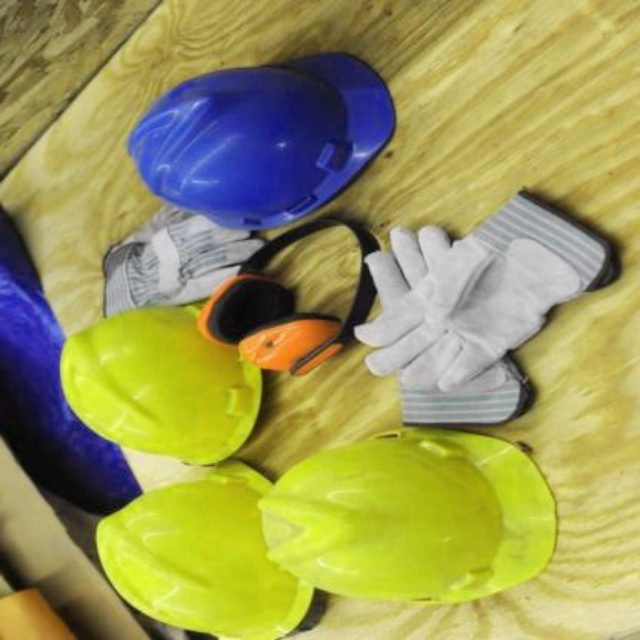blue-helm: (116, 47, 395, 236)
yellow-helm: (254, 418, 550, 612), (47, 286, 287, 468), (88, 459, 299, 638)
